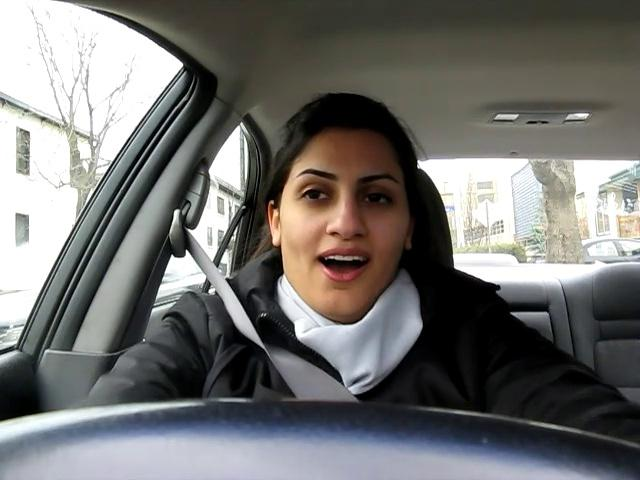open_eyeL: (288, 177, 346, 213)
open_eyeR: (350, 183, 414, 216)
yawn: (297, 240, 385, 287)
